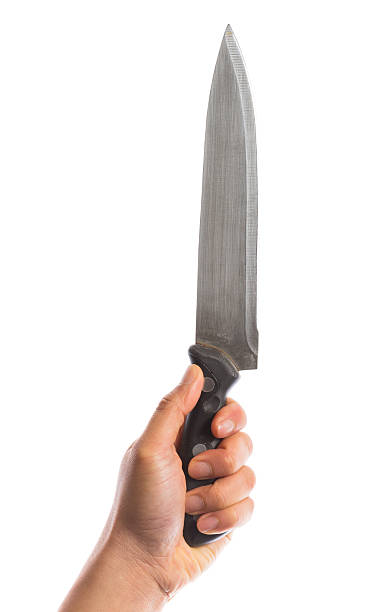knife: (182, 20, 260, 549)
